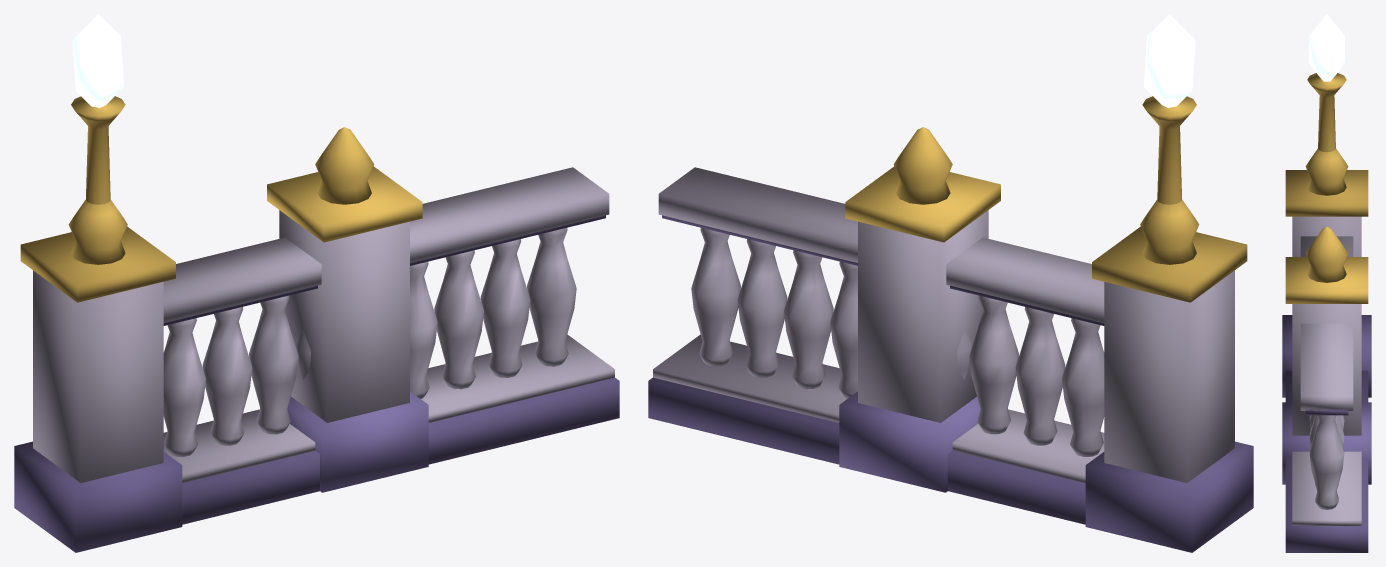
File: court_rail.glb
The picture shows the model from 3 angles, left to right: view 1: azimuth 30°, elevation 25°; view 2: azimuth 150°, elevation 25°; view 3: azimuth 270°, elevation 25°; orthographic projection. The views are drawn at different scales.
Visible parts, largest first — view 1: rail_lamp, rail_post, rail_lamp_crystal, rail_seg; view 2: rail_lamp, rail_post, rail_lamp_crystal, rail_seg; view 3: rail_lamp, rail_post, rail_lamp_crystal, rail_seg.
Boxes of the visible parts, left/top/right/bottom form: rail_lamp: left=14, top=96, right=619, bottom=552; rail_post: left=267, top=127, right=428, bottom=492; rail_lamp_crystal: left=72, top=14, right=124, bottom=107; rail_seg: left=68, top=199, right=127, bottom=264; rail_lamp: left=648, top=96, right=1253, bottom=552; rail_post: left=839, top=127, right=1000, bottom=492; rail_lamp_crystal: left=1143, top=14, right=1195, bottom=107; rail_seg: left=1140, top=199, right=1199, bottom=264; rail_lamp: left=1282, top=73, right=1371, bottom=552; rail_post: left=1282, top=226, right=1371, bottom=484; rail_lamp_crystal: left=1309, top=14, right=1344, bottom=81; rail_seg: left=1305, top=148, right=1348, bottom=195.
Size of the model in its own units: 2.77 by 2.44 by 0.54.
